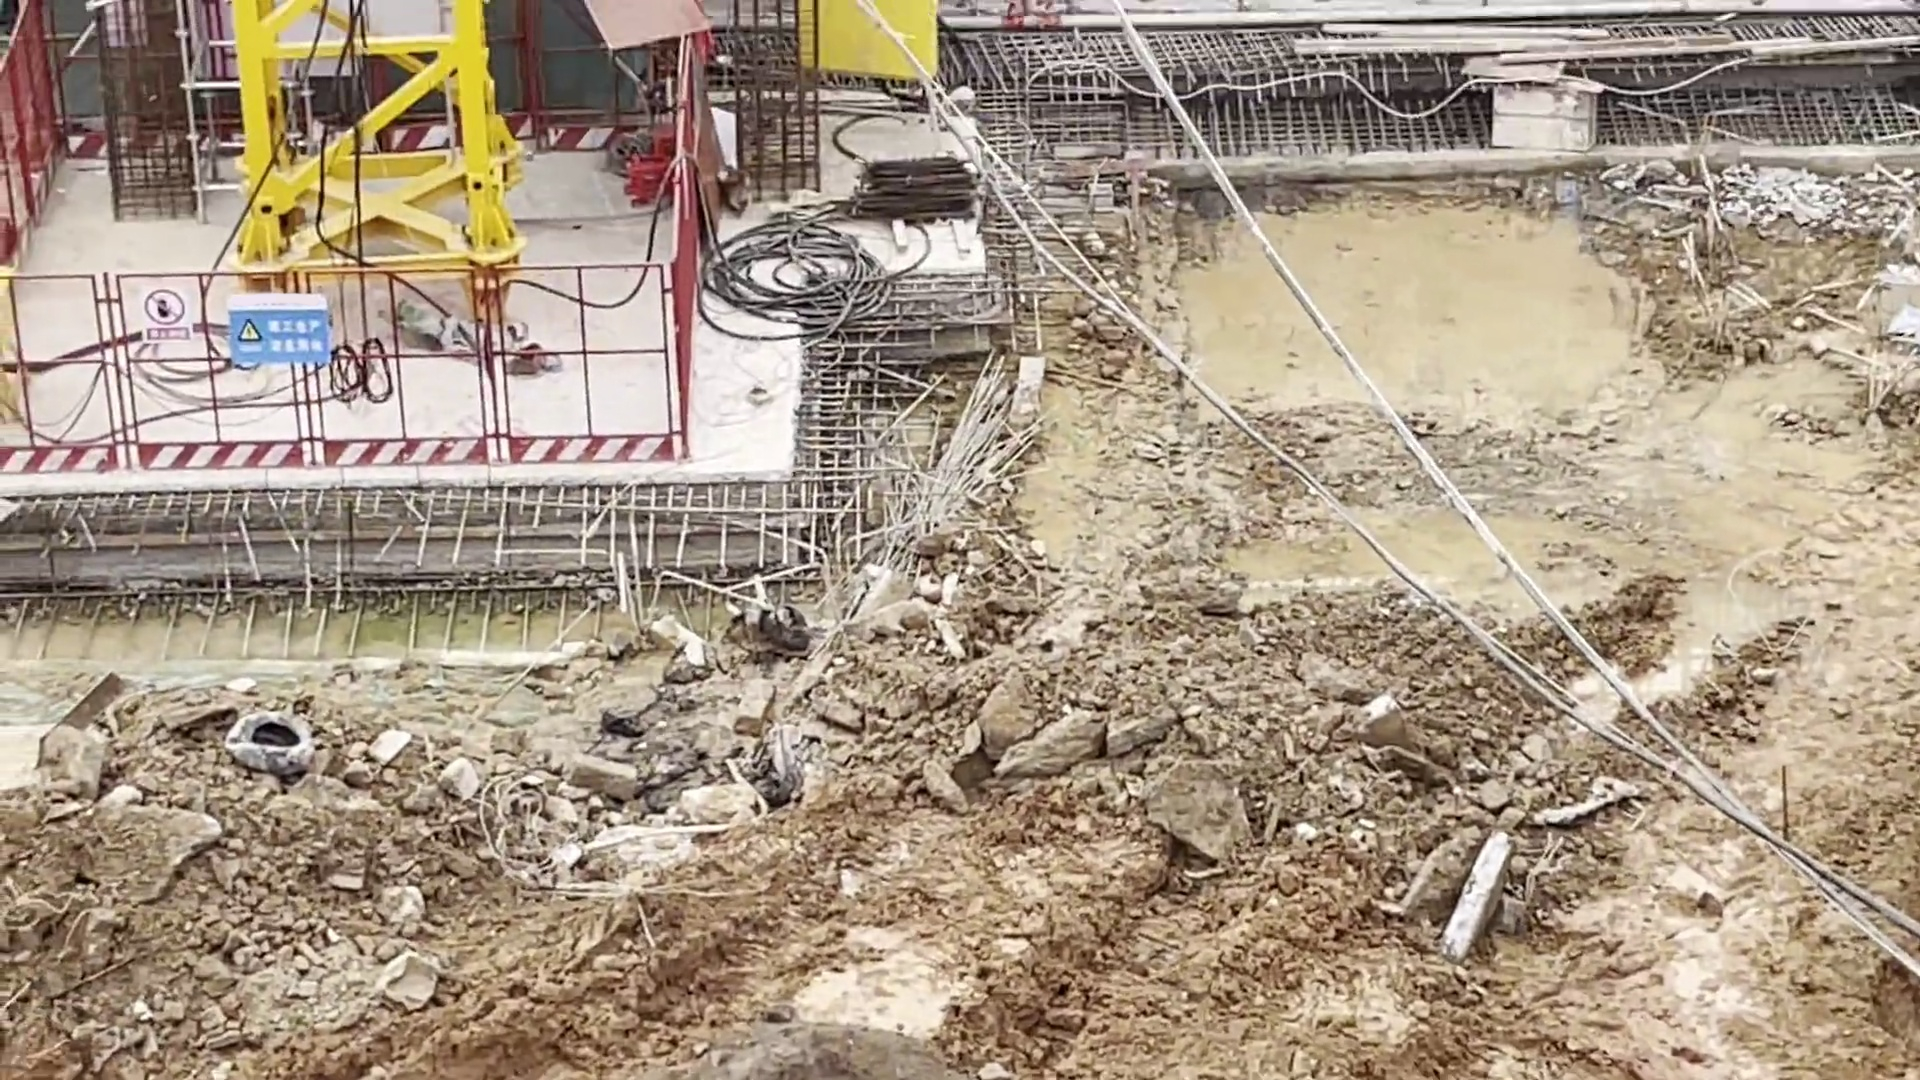ebox: (800, 4, 943, 80)
fence: (1, 257, 676, 468), (5, 11, 54, 220)
slogan: (223, 297, 334, 367), (142, 286, 193, 348)
